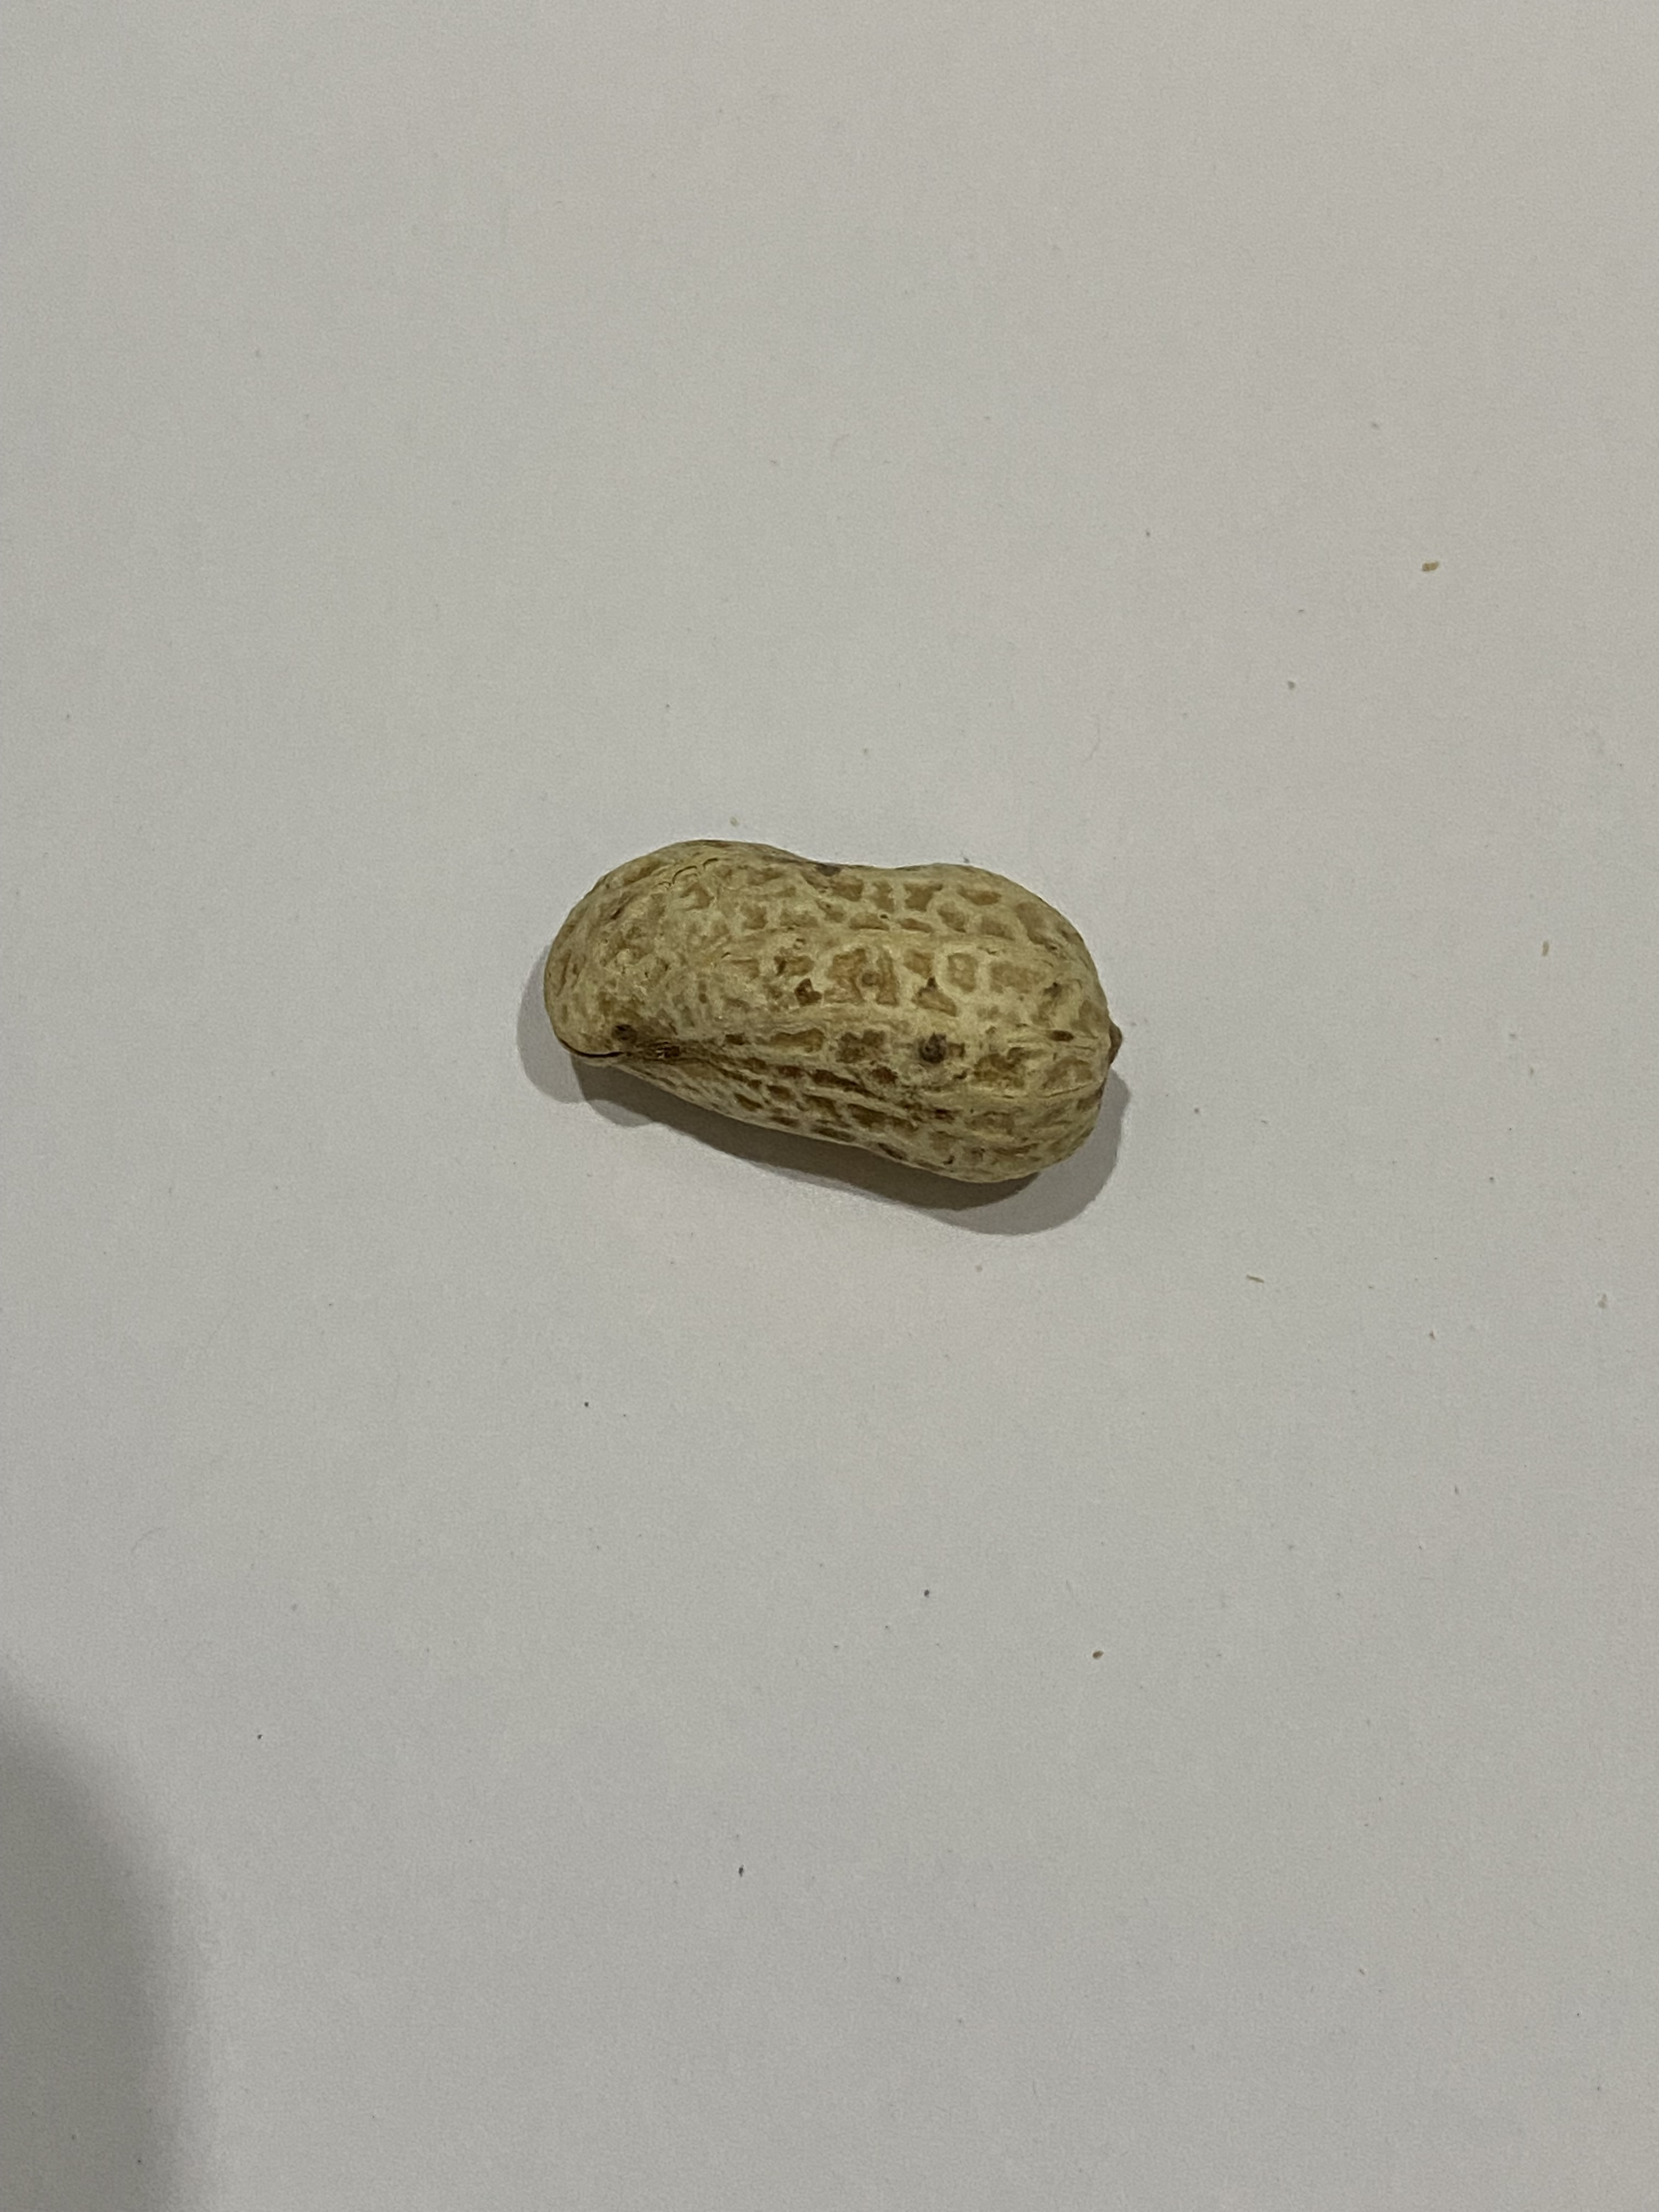kacang2: (509, 822, 1126, 1205)
